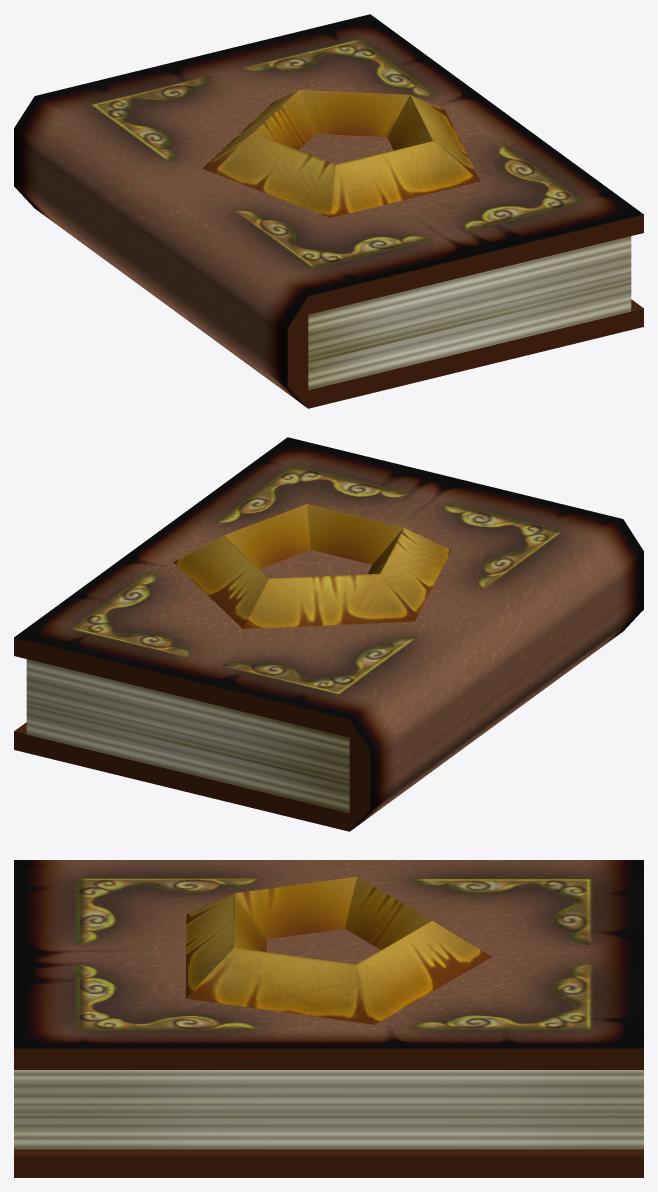
Rendered from Book2.fbx.
The picture shows the model from 3 angles, top to bottom: view 1: azimuth 30°, elevation 25°; view 2: azimuth 150°, elevation 25°; view 3: azimuth 270°, elevation 25°; orthographic projection. The views are drawn at different scales.
Visible parts, largest first — view 1: polySurface3; view 2: polySurface3; view 3: polySurface3.
Part boxes in pixels (x1,y1,x2,y2): polySurface3: [14, 14, 643, 408]; polySurface3: [14, 437, 643, 831]; polySurface3: [14, 860, 643, 1177].
Bounding box in the file's own units: 15.61 × 7.34 × 20.76.
1 material, 1 textured.
